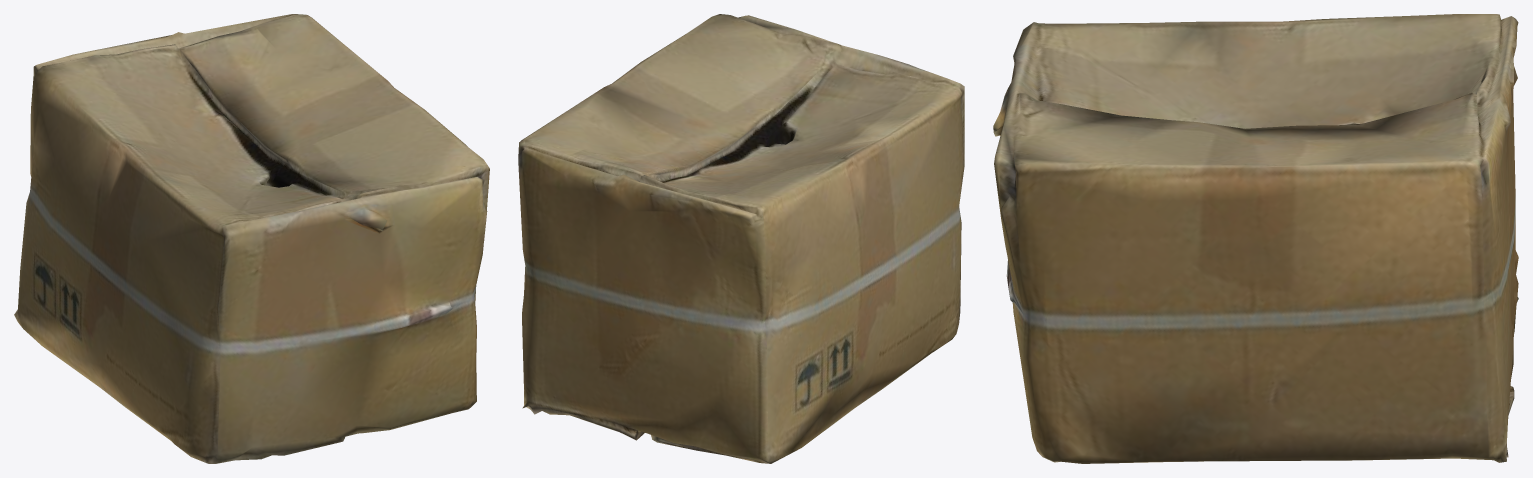
File: cardboard_box_01.glb
3 renders of one model, left to right at view 1: azimuth 30°, elevation 25°; view 2: azimuth 150°, elevation 25°; view 3: azimuth 270°, elevation 25°, orthographic. The views are drawn at different scales.
Parts seen in each view (by area): view 1: cardboard_box_01; view 2: cardboard_box_01; view 3: cardboard_box_01.
Part boxes in pixels (x1,y1,x2,y2): cardboard_box_01: [14, 14, 489, 463]; cardboard_box_01: [518, 14, 964, 463]; cardboard_box_01: [993, 14, 1518, 463].
Bounding box in the file's own units: 0.3865 × 0.3407 × 0.5159.
Materials: 1 (1 with a texture image).
